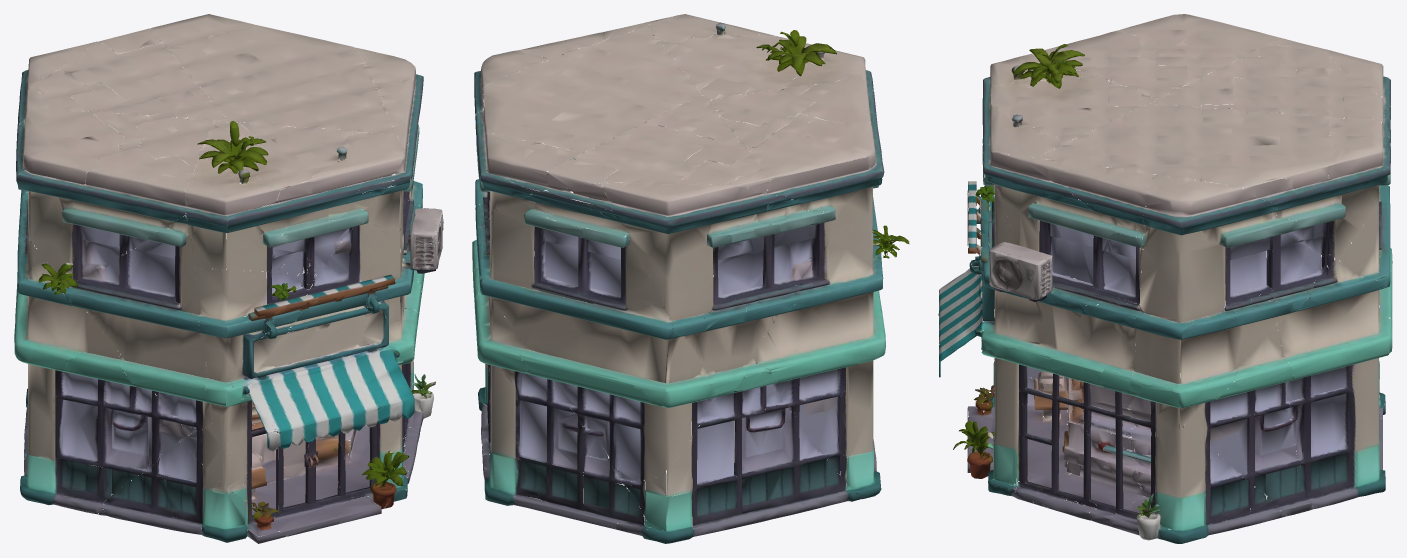
Rendered from shop_corner.glb.
3 renders of one model, left to right at view 1: azimuth 30°, elevation 25°; view 2: azimuth 150°, elevation 25°; view 3: azimuth 270°, elevation 25°, orthographic.
Parts seen in each view (by area): view 1: shop_corner; view 2: shop_corner; view 3: shop_corner.
Part boxes in pixels (box(x1,y1,x2,y2)): shop_corner: box(14, 14, 443, 543); shop_corner: box(472, 14, 909, 543); shop_corner: box(938, 14, 1392, 543).
Bounding box in the file's own units: 8.1 × 7.19 × 7.77.
1 material, 1 textured.
